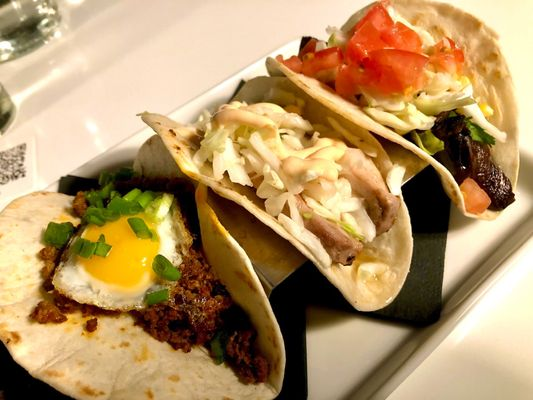soup: (1, 153, 291, 400), (265, 0, 519, 218)
